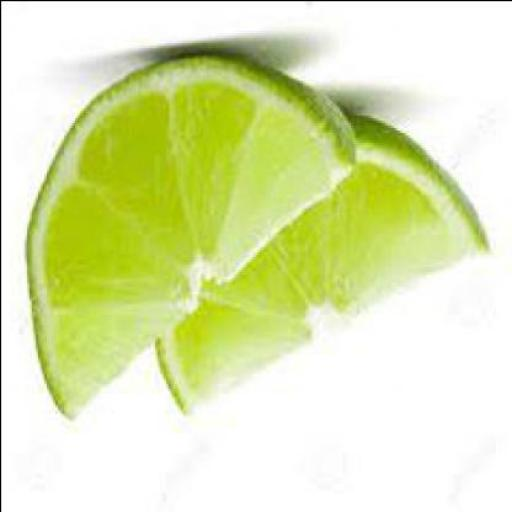biodegradable: (26, 57, 356, 428), (156, 111, 490, 418)
